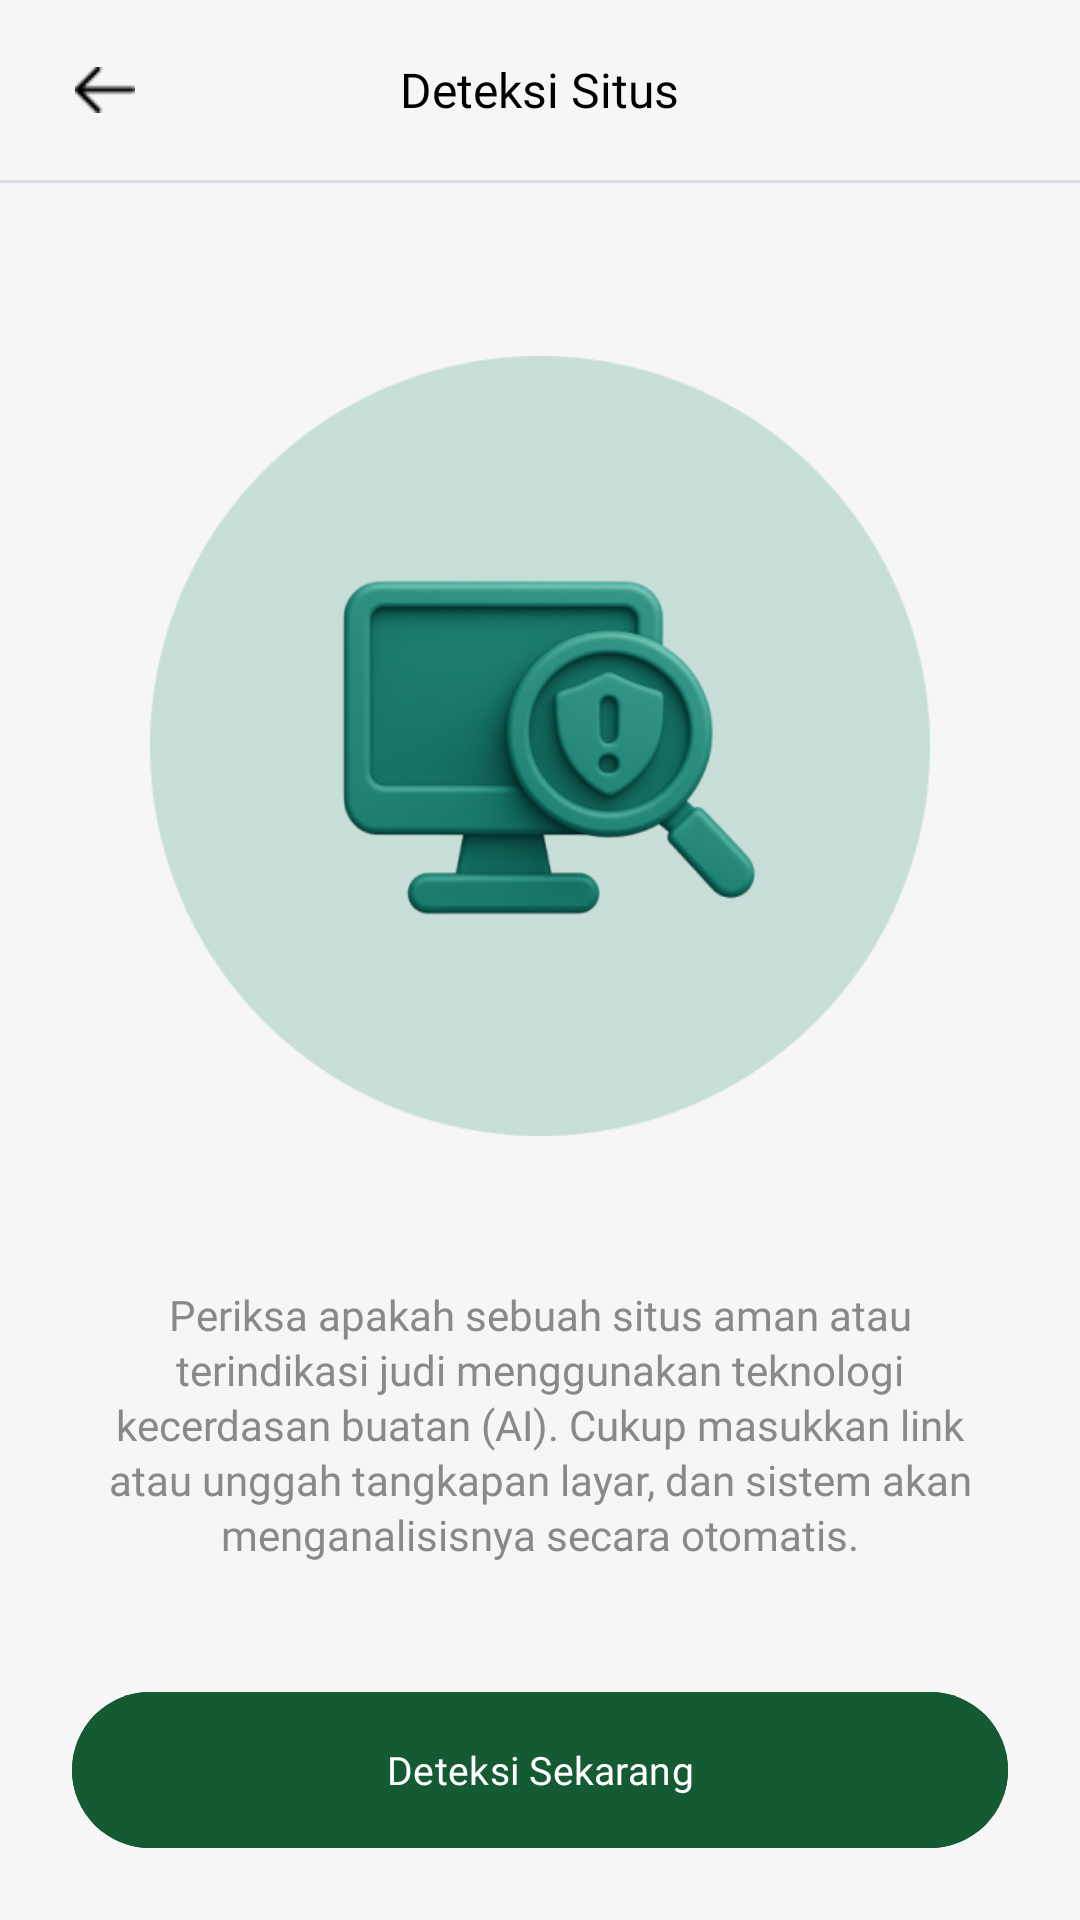

Locate icon controls on the screen. Image size 1080 x 1920, boxes as {"left": x1, "top": y1, "right": x2, "bottom": y2}.
arrow left: {"left": 75, "top": 67, "right": 135, "bottom": 113}
